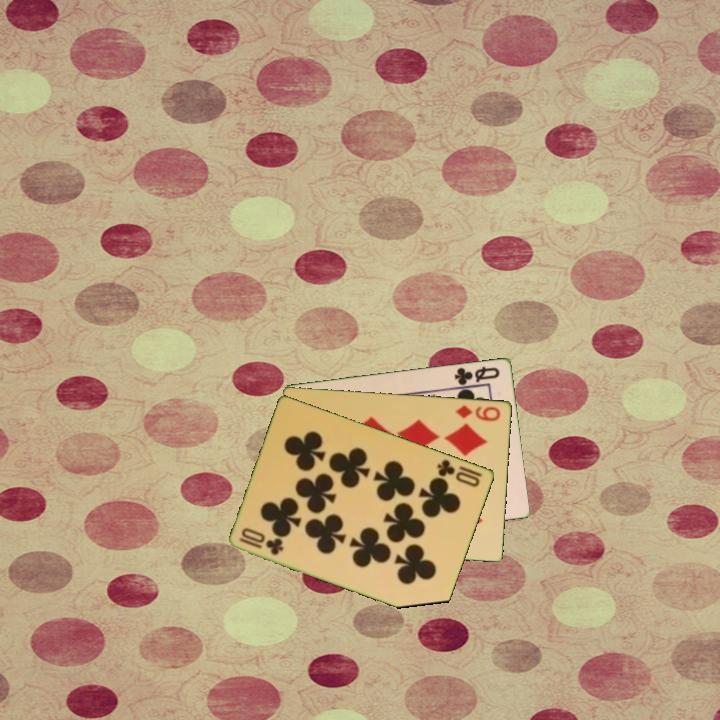10c: (236, 524, 287, 558), (434, 456, 483, 490)
9d: (452, 401, 503, 424)
Qc: (451, 363, 503, 388)
